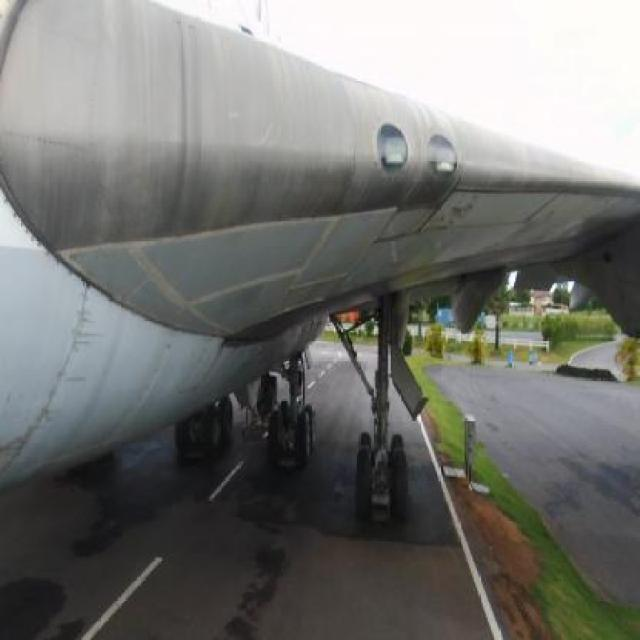Missing-Rivet: (34, 284, 101, 448)
Scartch: (435, 182, 496, 240)
